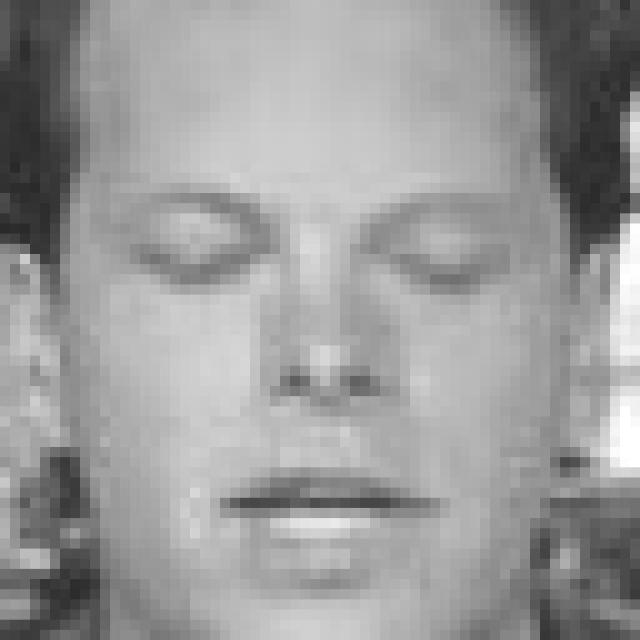real: (61, 78, 582, 618), (120, 166, 527, 338)
